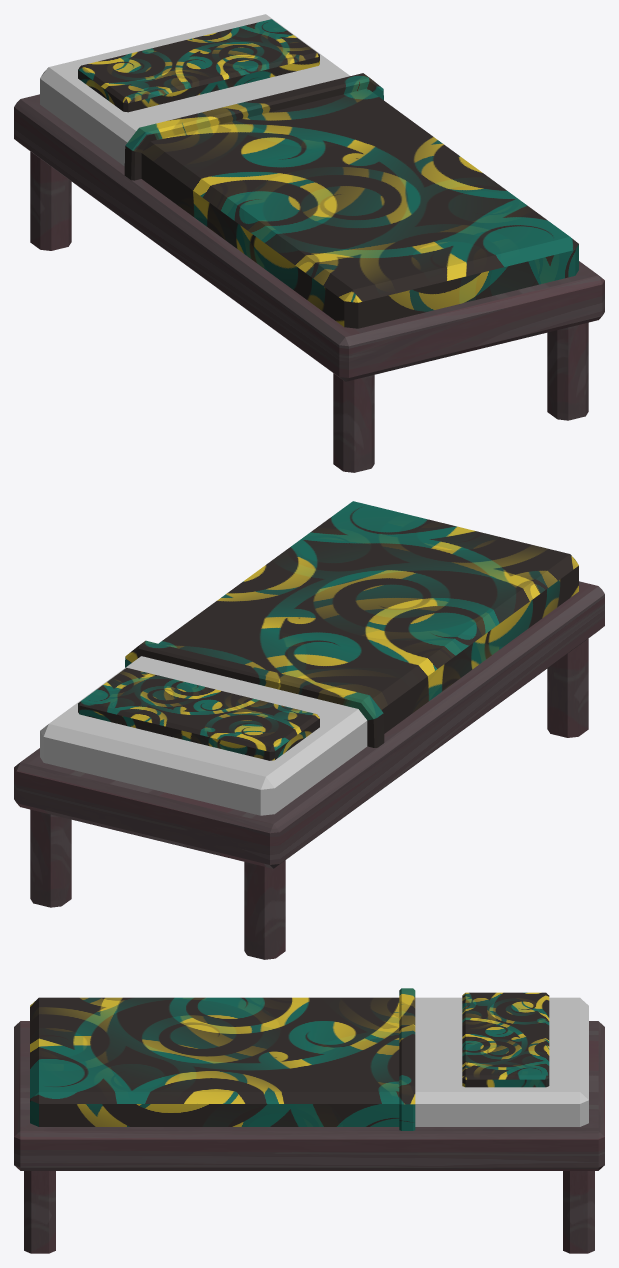
File: Bed.fbx
3 renders of one model, top to bottom at view 1: azimuth 30°, elevation 25°; view 2: azimuth 150°, elevation 25°; view 3: azimuth 270°, elevation 25°, orthographic. The views are drawn at different scales.
Parts seen in each view (by area): view 1: bed; view 2: bed; view 3: bed.
Part boxes in pixels (x1,y1,x2,y2): bed: [14, 14, 604, 472]; bed: [14, 501, 604, 959]; bed: [14, 988, 604, 1253].
Size of the model in its own units: 116 by 78.39 by 252.
